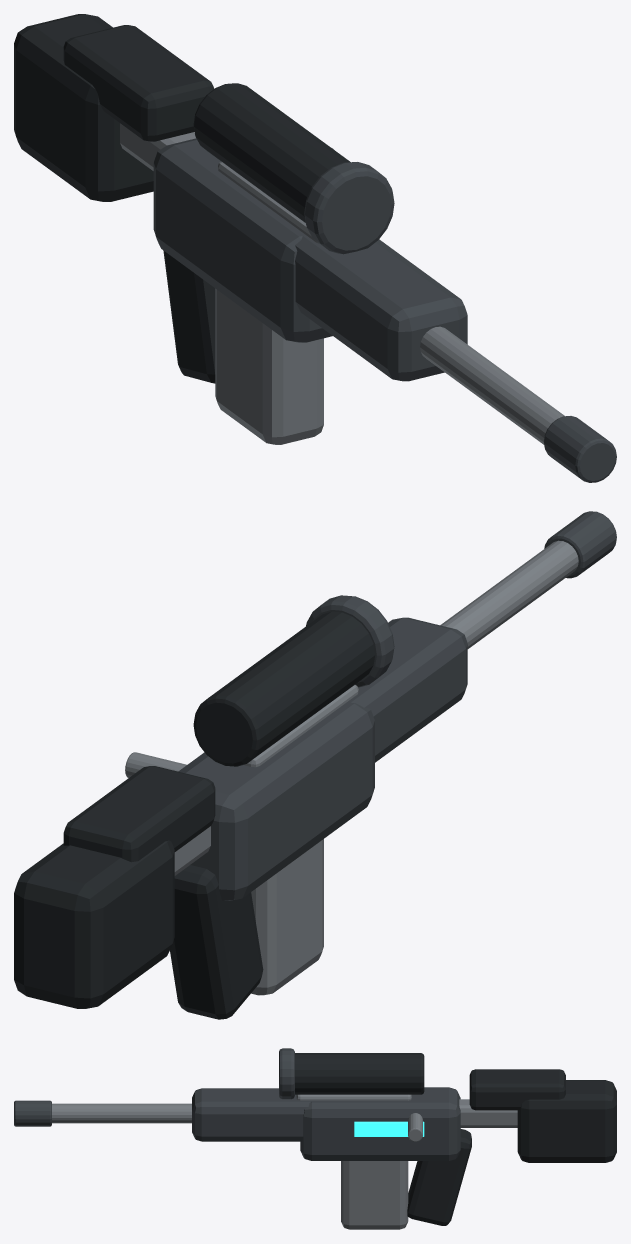
File: awp.glb
The picture shows the model from 3 angles, top to bottom: view 1: azimuth 30°, elevation 25°; view 2: azimuth 150°, elevation 25°; view 3: azimuth 270°, elevation 25°; orthographic projection. The views are drawn at different scales.
Visible parts, largest first — view 1: Receiver.002, Upper handguard.002, Adjustable stock.001, Magazine.002, Cheek rest, Scope body, Scope objective, Barrel.002, Pistol grip.002, Muzzle brake.002, Buffer tube.001, Scope rail; view 2: Adjustable stock.001, Receiver.002, Scope body, Pistol grip.002, Cheek rest, Upper handguard.002, Magazine.002, Barrel.002, Scope objective, Muzzle brake.002, Scope rail, Buffer tube.001 (+1 smaller); view 3: Receiver.002, Adjustable stock.001, Upper handguard.002, Scope body, Magazine.002, Cheek rest, Pistol grip.002, Barrel.002, Buffer tube.001, Muzzle brake.002, Aurora serial plate.002, Scope objective (+2 smaller).
Boxes of the visible parts, x1,y1,x2,y2 form: Receiver.002: (153, 138, 332, 342); Upper handguard.002: (295, 235, 467, 381); Adjustable stock.001: (14, 14, 153, 201); Magazine.002: (215, 288, 323, 444); Cheek rest: (63, 25, 214, 141); Scope body: (193, 83, 350, 222); Scope objective: (304, 162, 394, 254); Barrel.002: (420, 326, 564, 444); Pistol grip.002: (163, 250, 215, 383); Muzzle brake.002: (544, 416, 616, 482); Buffer tube.001: (120, 123, 195, 170); Scope rail: (217, 161, 319, 243); Adjustable stock.001: (14, 840, 174, 1008); Receiver.002: (178, 702, 374, 900); Scope body: (193, 611, 375, 766); Pistol grip.002: (170, 865, 263, 1019); Cheek rest: (63, 766, 215, 862); Upper handguard.002: (319, 617, 467, 762); Magazine.002: (251, 839, 323, 995); Barrel.002: (440, 540, 578, 648); Scope objective: (306, 595, 394, 687); Muzzle brake.002: (544, 511, 616, 578); Scope rail: (244, 685, 358, 767); Buffer tube.001: (174, 826, 210, 875); Receiver.002: (300, 1087, 460, 1160); Adjustable stock.001: (517, 1080, 616, 1162); Upper handguard.002: (192, 1088, 342, 1141); Scope body: (295, 1053, 424, 1094); Magazine.002: (341, 1161, 408, 1229); Cheek rest: (469, 1069, 565, 1110); Pistol grip.002: (407, 1129, 471, 1225); Barrel.002: (52, 1103, 191, 1123); Buffer tube.001: (459, 1099, 517, 1127); Muzzle brake.002: (14, 1100, 51, 1126); Aurora serial plate.002: (354, 1121, 424, 1136); Scope objective: (279, 1048, 294, 1099).
Bounding box in the file's own units: 0.32 × 0.658 × 2.07.
